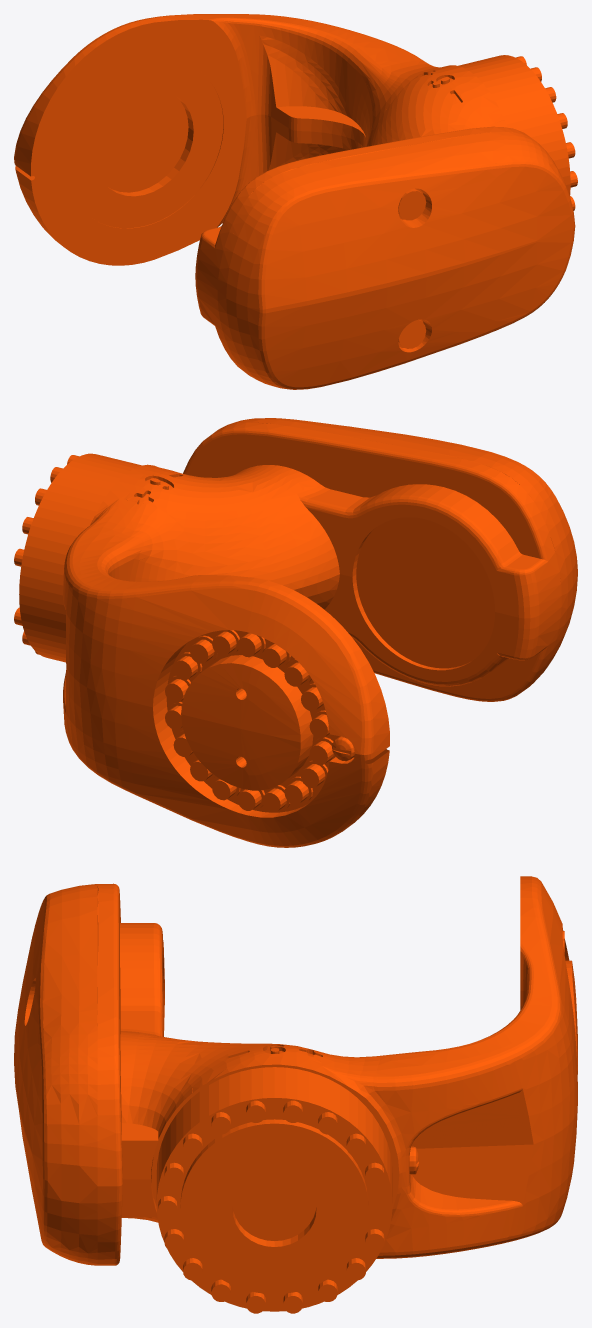
3 views of the same model, one above another, from view 1: azimuth 30°, elevation 25°; view 2: azimuth 150°, elevation 25°; view 3: azimuth 270°, elevation 25° (orthographic). The views are drawn at different scales.
Parts seen in each view (by area): view 1: link_5; view 2: link_5; view 3: link_5.
Boxes of the visible parts, bbox=[...] form: link_5: bbox=[14, 14, 577, 389]; link_5: bbox=[14, 418, 577, 847]; link_5: bbox=[14, 876, 577, 1313].
Size of the model in its own units: 0.202 by 0.2008 by 0.115.
